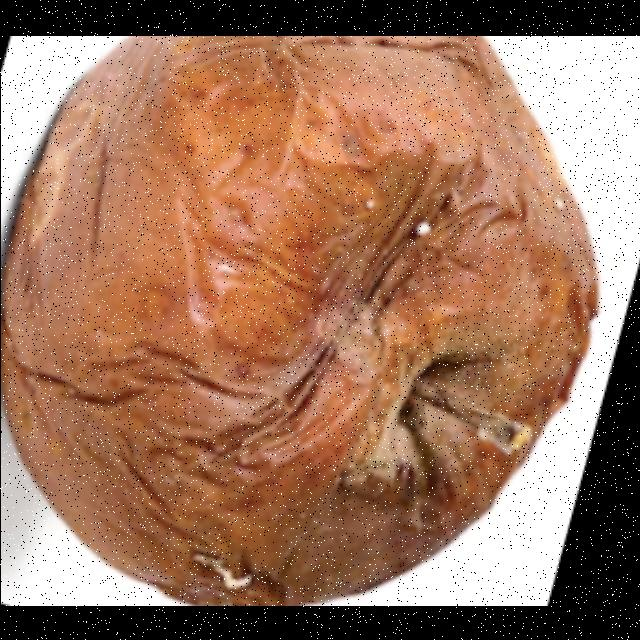Apel Tidak Segar: (0, 35, 608, 605)
